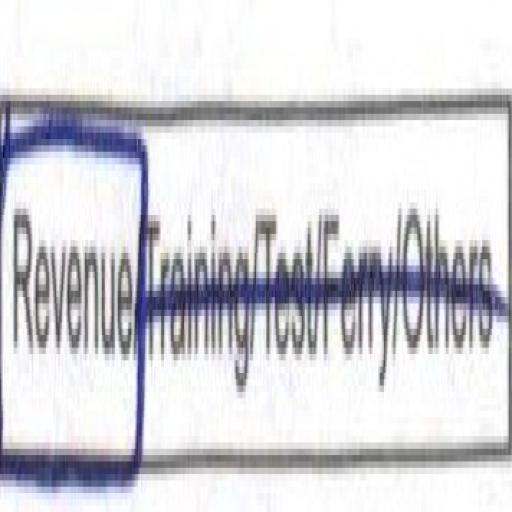check: (0, 91, 144, 512)
